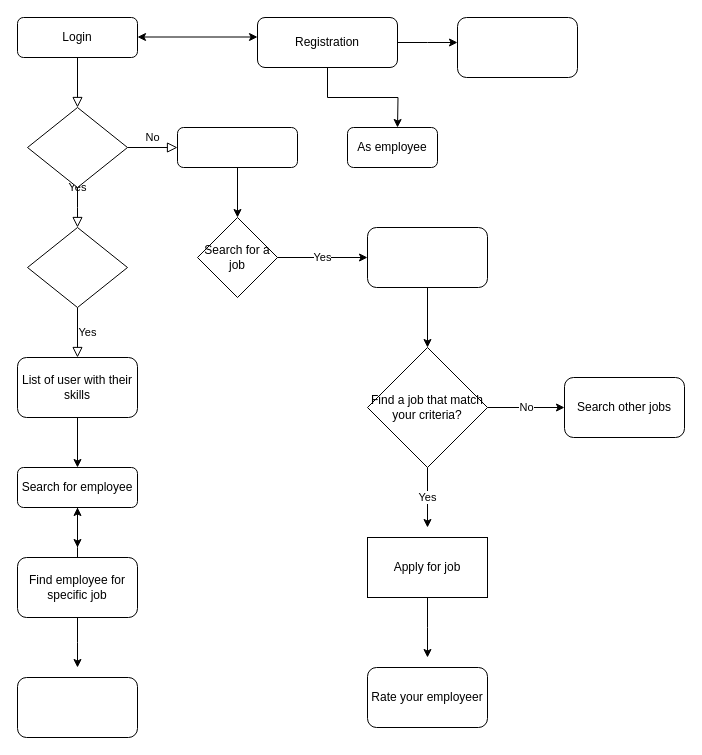
Some shapes in this 702 by 755 pixel diagram are drawn without their labels. The shapes that lost their labels are listed below. From the top down, each one's centre as x and y in pixels, then its label:
At [517,47]: "As emplyeer".
At [77,147]: "Employer?".
At [237,147]: "User".
At [77,267]: "Offers a job".
At [427,257]: "Find a list of specific oportunities".
At [77,707]: "At last, rate the employee".
